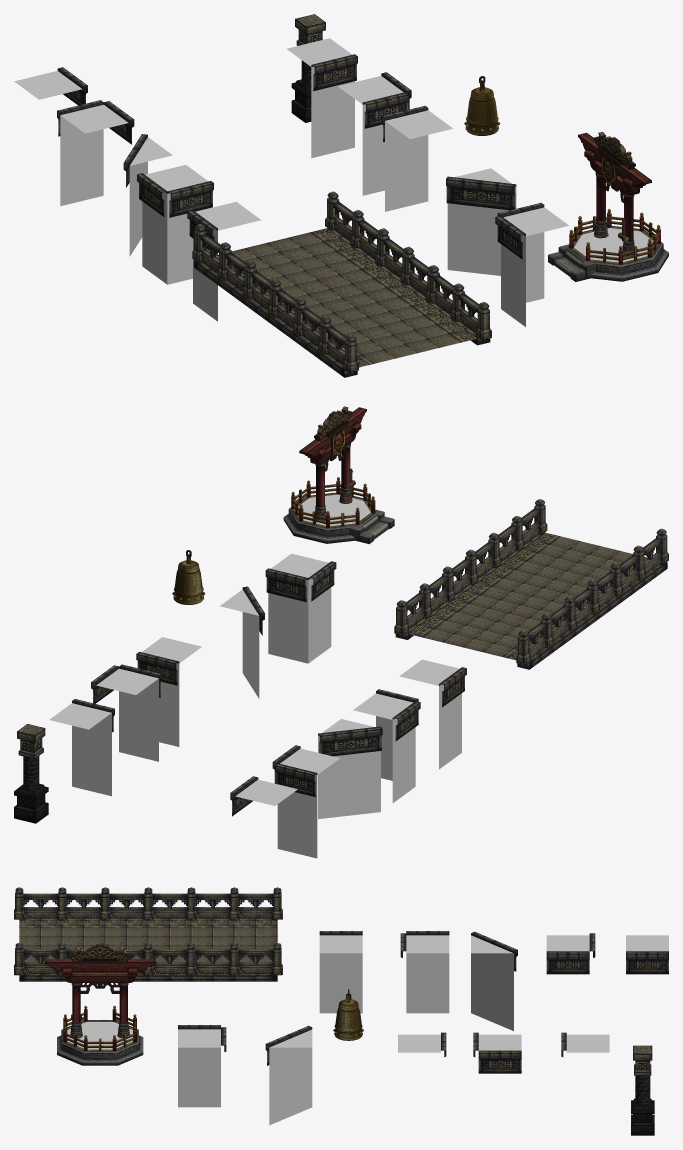
The model's file is EnvMdrMD_Desert_A_Bell.FBX.
3 views of the same model, one above another, from view 1: azimuth 30°, elevation 25°; view 2: azimuth 150°, elevation 25°; view 3: azimuth 270°, elevation 25° (orthographic). The views are drawn at different scales.
Visible parts, largest first — view 1: EnvMdrMD_Desert_A_Bridge_A, EnvMdrMD_Desert_A_Bell, EnvMdrMD_Desert_A_GrdWall_A_CoOut_RF, EnvMdrMD_Desert_A_GrdWall_A_SL_RF, EnvMdrMD_Desert_A_GrdWall_A_CoOut_LB, EnvMdrMD_Desert_A_GrdWall_A_RS, EnvMdrMD_Desert_A_GrdWall_A_CoOut_LF, EnvMdrMD_Desert_A_GrdWall_A_LS, EnvMdrMD_Desert_A_GrdWall_A_CoOut_RB, EnvMdrMD_Desert_A_GrdWall_A_FR, EnvMdrMD_Desert_A_GrdWall_A_SL_LF, EnvMdrMD_Desert_A_GrdWall_A_Pillar_A (+2 smaller); view 2: EnvMdrMD_Desert_A_Bridge_A, EnvMdrMD_Desert_A_Bell, EnvMdrMD_Desert_A_GrdWall_A_CoOut_LF, EnvMdrMD_Desert_A_GrdWall_A_SL_LF, EnvMdrMD_Desert_A_GrdWall_A_CoOut_LB, EnvMdrMD_Desert_A_GrdWall_A_CoOut_RB, EnvMdrMD_Desert_A_GrdWall_A_CoOut_RF, EnvMdrMD_Desert_A_GrdWall_A_RS, EnvMdrMD_Desert_A_GrdWall_A_LS, EnvMdrMD_Desert_A_GrdWall_A_FR, EnvMdrMD_Desert_A_GrdWall_A_Pillar_A, EnvMdrMD_Desert_A_GrdWall_A_SL_RF (+2 smaller); view 3: EnvMdrMD_Desert_A_Bridge_A, EnvMdrMD_Desert_A_Bell, EnvMdrMD_Desert_A_GrdWall_A_CoOut_RF, EnvMdrMD_Desert_A_GrdWall_A_SL_RF, EnvMdrMD_Desert_A_GrdWall_A_CoOut_LF, EnvMdrMD_Desert_A_GrdWall_A_SL_LF, EnvMdrMD_Desert_A_GrdWall_A_FR, EnvMdrMD_Desert_A_GrdWall_A_CoOut_LB, EnvMdrMD_Desert_A_GrdWall_A_CoOut_RB, EnvMdrMD_Desert_A_GrdWall_A_Pillar_A, EnvMdrMD_Desert_A_GrdWall_A_BK, EnvMdrMD_Desert_A_Bell_B (+2 smaller).
Boxes of the visible parts, x1,y1,x2,y2 form: EnvMdrMD_Desert_A_Bridge_A: [192, 191, 491, 377]; EnvMdrMD_Desert_A_Bell: [548, 132, 668, 281]; EnvMdrMD_Desert_A_GrdWall_A_CoOut_RF: [137, 165, 213, 284]; EnvMdrMD_Desert_A_GrdWall_A_SL_RF: [446, 168, 516, 275]; EnvMdrMD_Desert_A_GrdWall_A_CoOut_LB: [57, 100, 134, 206]; EnvMdrMD_Desert_A_GrdWall_A_RS: [286, 38, 357, 158]; EnvMdrMD_Desert_A_GrdWall_A_CoOut_LF: [495, 203, 568, 326]; EnvMdrMD_Desert_A_GrdWall_A_LS: [381, 106, 452, 211]; EnvMdrMD_Desert_A_GrdWall_A_CoOut_RB: [338, 72, 411, 195]; EnvMdrMD_Desert_A_GrdWall_A_FR: [187, 201, 260, 321]; EnvMdrMD_Desert_A_GrdWall_A_SL_LF: [123, 134, 172, 256]; EnvMdrMD_Desert_A_GrdWall_A_Pillar_A: [291, 14, 325, 122]; EnvMdrMD_Desert_A_Bridge_A: [394, 499, 668, 669]; EnvMdrMD_Desert_A_Bell: [283, 406, 394, 544]; EnvMdrMD_Desert_A_GrdWall_A_CoOut_LF: [265, 553, 336, 663]; EnvMdrMD_Desert_A_GrdWall_A_SL_LF: [318, 719, 382, 819]; EnvMdrMD_Desert_A_GrdWall_A_CoOut_LB: [272, 745, 339, 858]; EnvMdrMD_Desert_A_GrdWall_A_CoOut_RB: [91, 664, 161, 761]; EnvMdrMD_Desert_A_GrdWall_A_CoOut_RF: [353, 689, 420, 802]; EnvMdrMD_Desert_A_GrdWall_A_RS: [49, 699, 114, 796]; EnvMdrMD_Desert_A_GrdWall_A_LS: [136, 637, 201, 746]; EnvMdrMD_Desert_A_GrdWall_A_FR: [399, 659, 466, 769]; EnvMdrMD_Desert_A_GrdWall_A_Pillar_A: [14, 724, 48, 823]; EnvMdrMD_Desert_A_GrdWall_A_SL_RF: [220, 586, 264, 698]; EnvMdrMD_Desert_A_Bridge_A: [14, 887, 282, 981]; EnvMdrMD_Desert_A_Bell: [44, 944, 155, 1065]; EnvMdrMD_Desert_A_GrdWall_A_CoOut_RF: [400, 931, 449, 1013]; EnvMdrMD_Desert_A_GrdWall_A_SL_RF: [265, 1025, 312, 1125]; EnvMdrMD_Desert_A_GrdWall_A_CoOut_LF: [178, 1025, 226, 1107]; EnvMdrMD_Desert_A_GrdWall_A_SL_LF: [471, 931, 517, 1030]; EnvMdrMD_Desert_A_GrdWall_A_FR: [319, 931, 362, 1013]; EnvMdrMD_Desert_A_GrdWall_A_CoOut_LB: [546, 933, 595, 974]; EnvMdrMD_Desert_A_GrdWall_A_CoOut_RB: [473, 1032, 521, 1073]; EnvMdrMD_Desert_A_GrdWall_A_Pillar_A: [631, 1045, 654, 1135]; EnvMdrMD_Desert_A_GrdWall_A_BK: [626, 935, 668, 974]; EnvMdrMD_Desert_A_Bell_B: [333, 989, 363, 1040].
Bounding box in the file's own units: 1660 × 925 × 3045.
